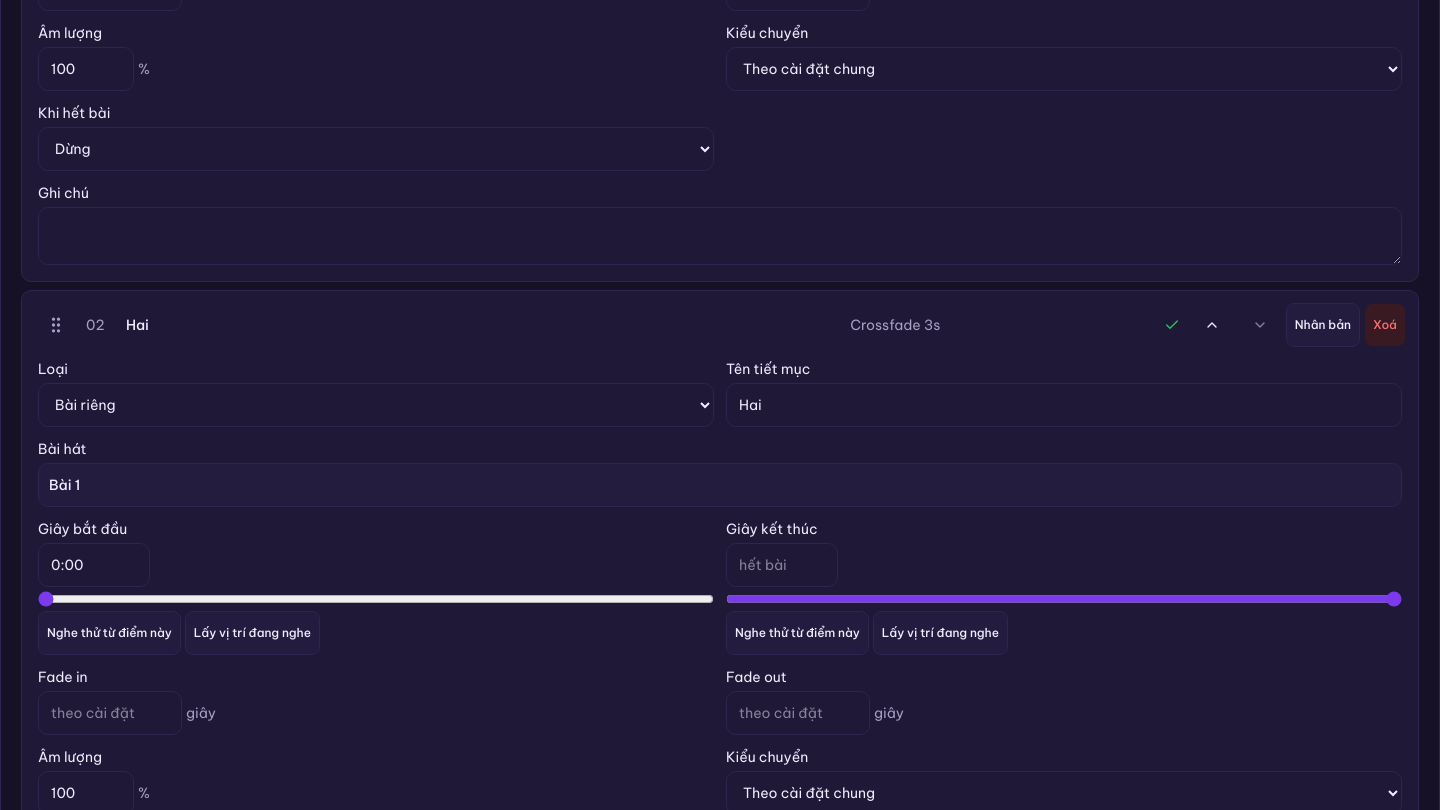
Test case: EditorClient › Kiểm tra & nạp refuses to navigate while a save is in error
The width and height of the screenshot is (1440, 810).
Later steps or results of the test are not shown.
(page scrolled)
Replace the text in the field labelled "Tên tiết mục" with "Hai sửa": (1064, 405) [726,383,1402,427]
(page scrolled)
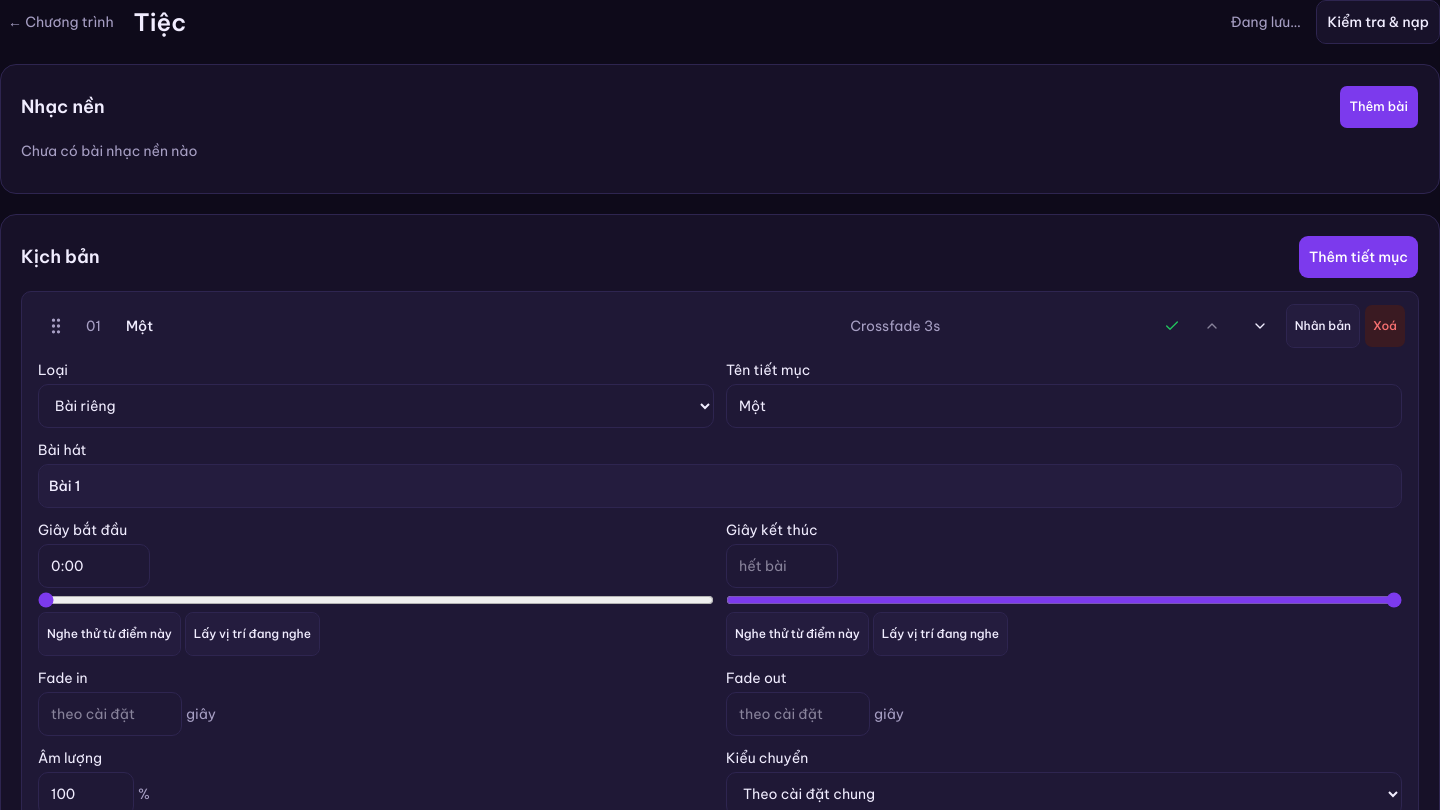
Click the button "Kiểm tra & nạp": (1378, 22) [1316,0,1439,44]
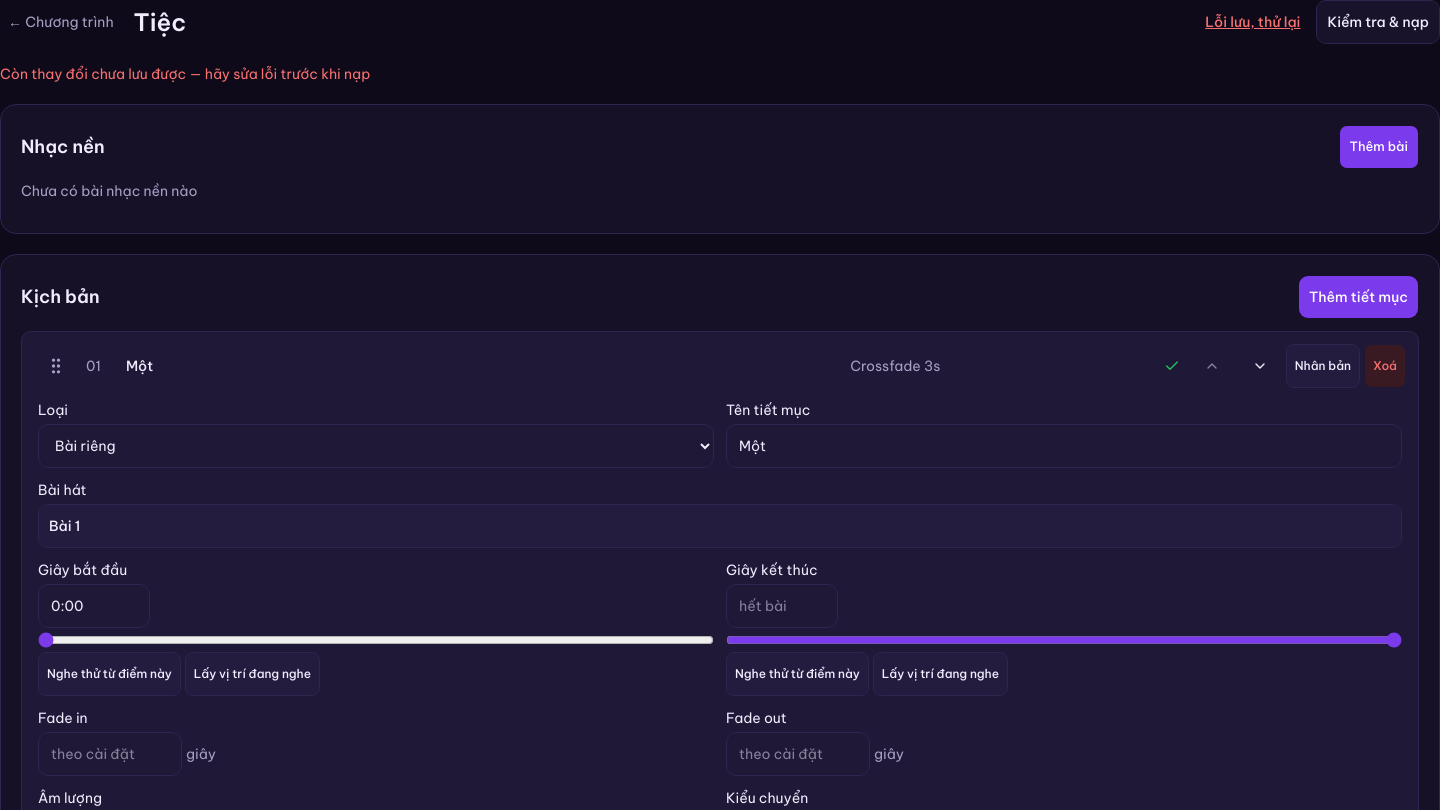
Now the message reads "Còn thay đổi chưa lưu được — hãy sửa lỗi trước khi nạp", box [0,65,370,83]
